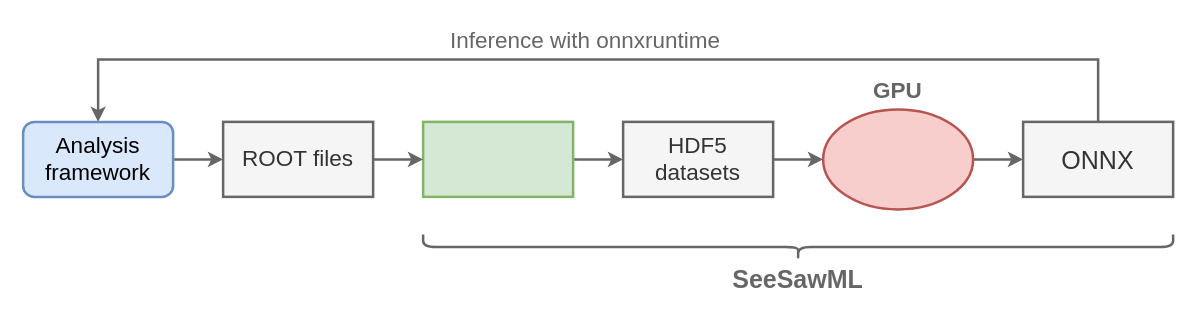
The diagram is 1195 pixels wide and 318 high, and some of its shapes have lost their labels. The centre of each missing label's shape, as x and y in pixels:
ML selection: [497,159]
Model training and testing: [897,159]
